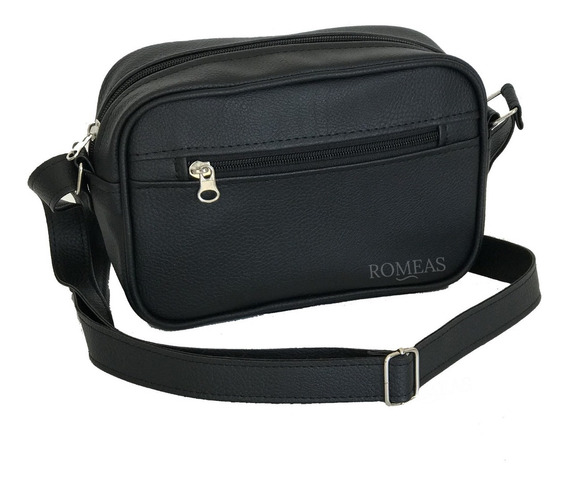cartera: (86, 23, 491, 333)
